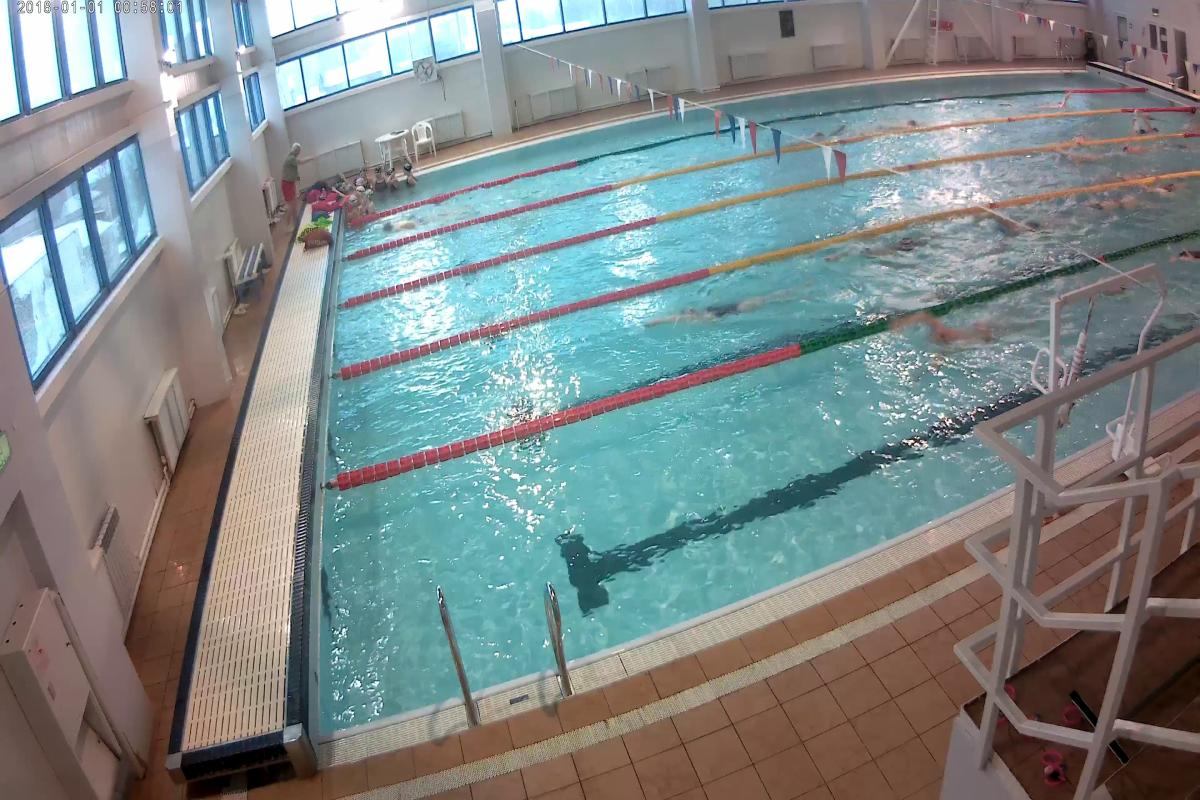swimmer: (907, 313, 991, 351), (856, 230, 943, 263), (672, 297, 775, 322), (1042, 144, 1105, 167), (984, 214, 1047, 235), (1147, 176, 1191, 205), (1088, 183, 1133, 211), (1114, 141, 1179, 160), (1158, 244, 1200, 263)
